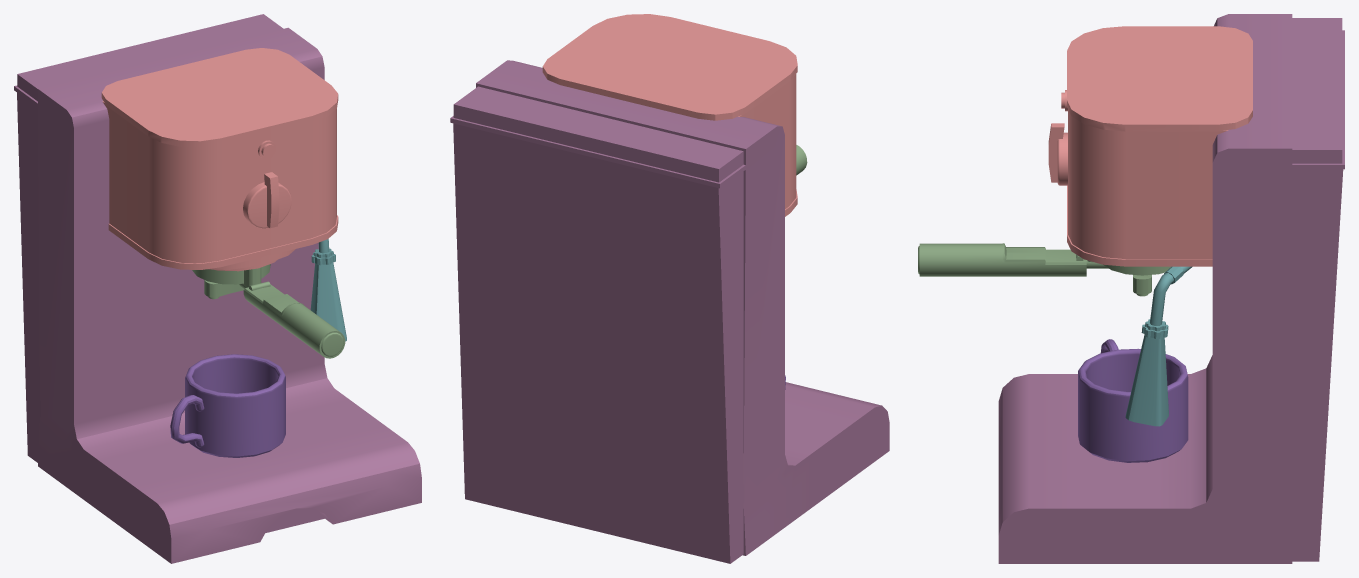
Rendered from bhkbhkb.fbx.
3 renders of one model, left to right at view 1: azimuth 30°, elevation 25°; view 2: azimuth 150°, elevation 25°; view 3: azimuth 270°, elevation 25°, orthographic. The views are drawn at different scales.
Visible parts, largest first — view 1: polySurface1, pCube2, pCube4, pCylinder9, agua, tapa, pCylinder6, pCube7, pCube11, pCylinder1, pCylinder10, pCylinder7 (+2 smaller); view 2: agua, polySurface1, pCube4, tapa, pCube2; view 3: polySurface1, pCube4, pCube2, agua, pCylinder9, tapa, pCylinder6, pCube11, pCube7, pCylinder7, tubo, pCube3 (+1 smaller).
Boxes of the visible parts, x1,y1,x2,y2 form: polySurface1: [38, 27, 421, 563]; pCube2: [102, 101, 336, 263]; pCube4: [101, 48, 338, 147]; pCylinder9: [185, 354, 285, 457]; agua: [17, 92, 40, 462]; tapa: [14, 14, 283, 107]; pCylinder6: [243, 290, 345, 358]; pCube7: [108, 215, 338, 269]; pCube11: [310, 262, 346, 341]; pCylinder1: [243, 182, 291, 228]; pCylinder10: [170, 395, 204, 447]; pCylinder7: [244, 284, 303, 315]; agua: [453, 123, 744, 563]; polySurface1: [476, 60, 889, 555]; pCube4: [542, 14, 797, 120]; tapa: [450, 86, 746, 188]; pCube2: [738, 74, 796, 208]; polySurface1: [998, 14, 1292, 563]; pCube4: [1067, 26, 1252, 131]; pCube2: [1068, 109, 1228, 259]; agua: [1292, 169, 1343, 561]; pCylinder9: [1078, 348, 1188, 462]; tapa: [1292, 18, 1344, 169]; pCylinder6: [919, 243, 1086, 276]; pCube11: [1125, 334, 1168, 426]; pCube7: [1067, 185, 1212, 266]; pCylinder7: [1002, 243, 1086, 264]; tubo: [1150, 266, 1192, 325]; pCube3: [1048, 123, 1064, 182].
Size of the model in its own units: 6.25 by 9.13 by 8.38.
